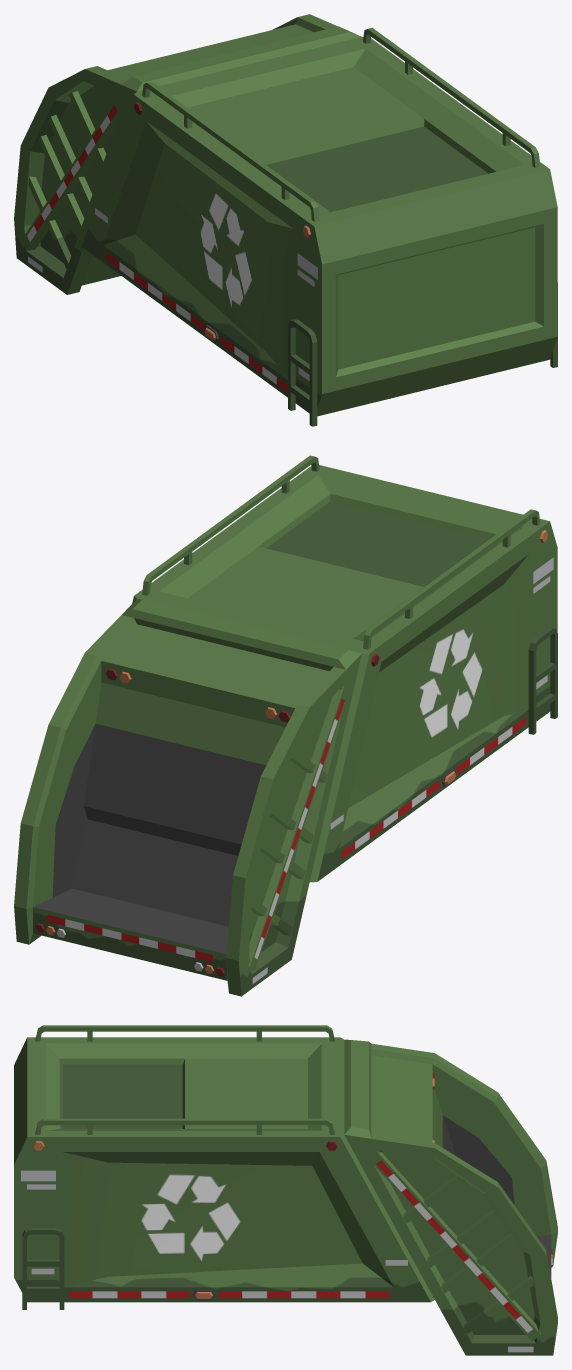
File: SM_Veh_Truck_Attachment_Garbage_01.obj
3 renders of one model, top to bottom at view 1: azimuth 30°, elevation 25°; view 2: azimuth 150°, elevation 25°; view 3: azimuth 270°, elevation 25°, orthographic. The views are drawn at different scales.
Parts seen in each view (by area): view 1: SM_Veh_Truck_Attachment_Garbage_01_0; view 2: SM_Veh_Truck_Attachment_Garbage_01_0; view 3: SM_Veh_Truck_Attachment_Garbage_01_0.
Boxes of the visible parts, x1,y1,x2,y2 form: SM_Veh_Truck_Attachment_Garbage_01_0: (14, 14, 557, 426); SM_Veh_Truck_Attachment_Garbage_01_0: (14, 455, 557, 996); SM_Veh_Truck_Attachment_Garbage_01_0: (14, 1025, 557, 1355).
Bounding box in the file's own units: 2.65 × 2.8 × 5.87.
1 material, 1 textured.
